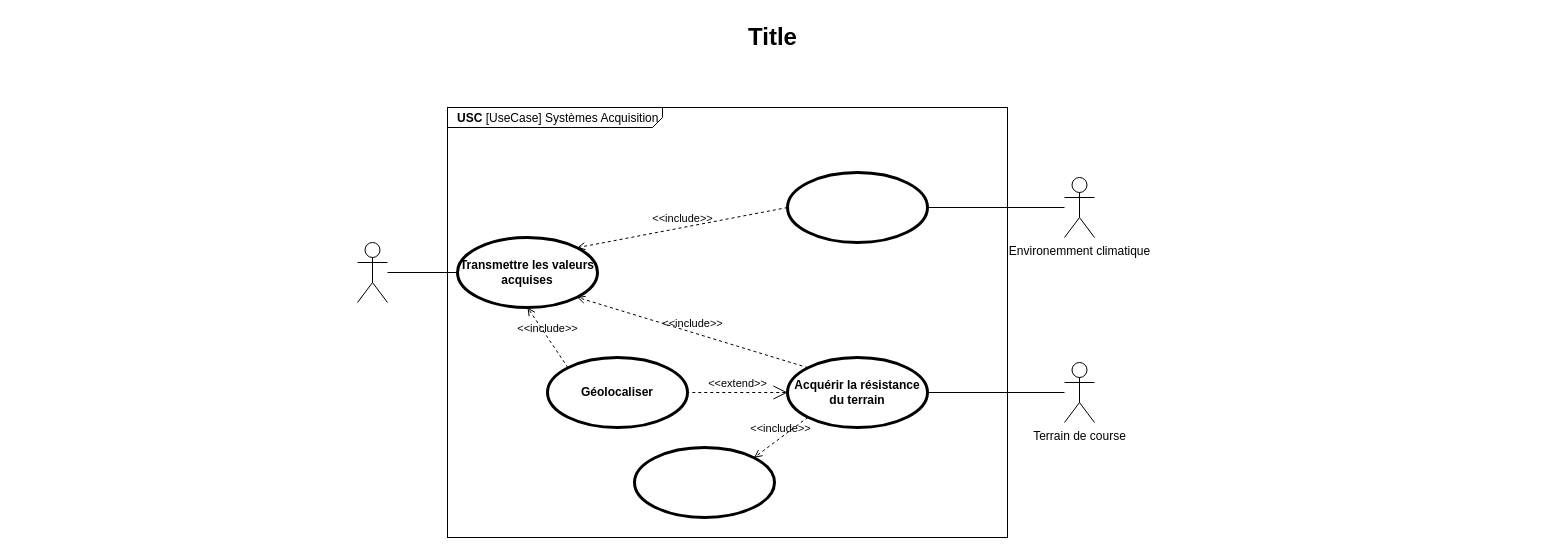
Image size: 1544x555. Some labels were removed from this diagram. Each missing label, with the centre of its shape:
Acquérir les données météorologiques: the point at 857,207
Déplacer le pénétromtre: the point at 704,482
Passerelle: the point at 372,272
